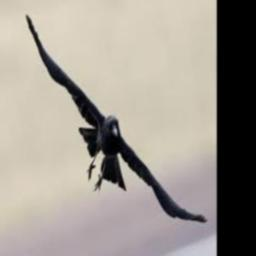Crow: (25, 12, 207, 224)
